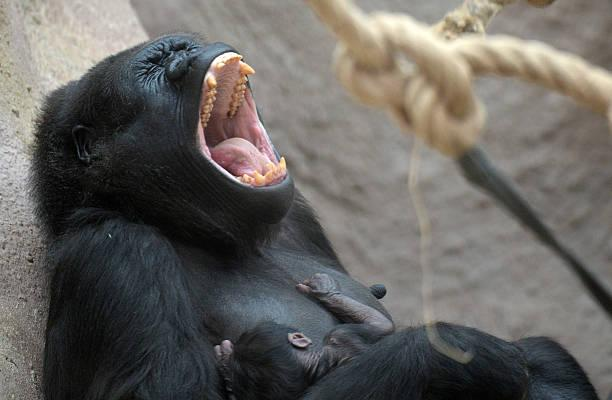gorille_Autres: (26, 28, 400, 385)
